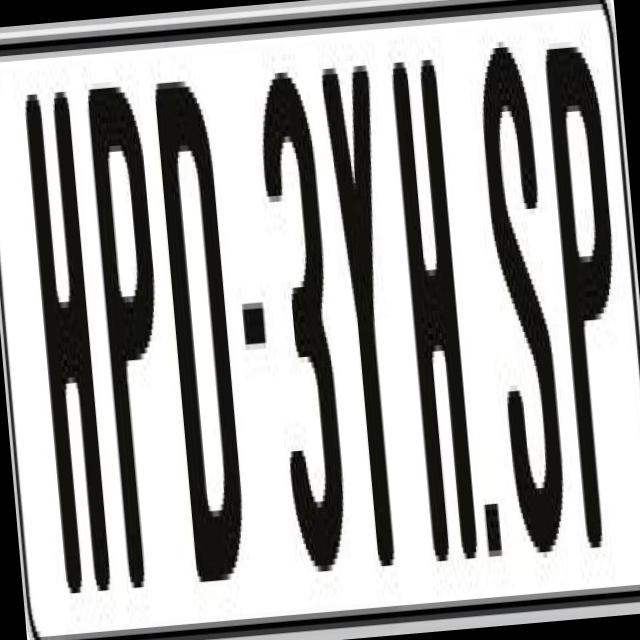3: (254, 70, 354, 602)
D: (152, 78, 252, 600)
H: (389, 59, 485, 590), (21, 79, 118, 588)
P: (85, 72, 186, 606), (540, 45, 636, 571)
S: (471, 28, 572, 572)
Y: (316, 52, 418, 586)
